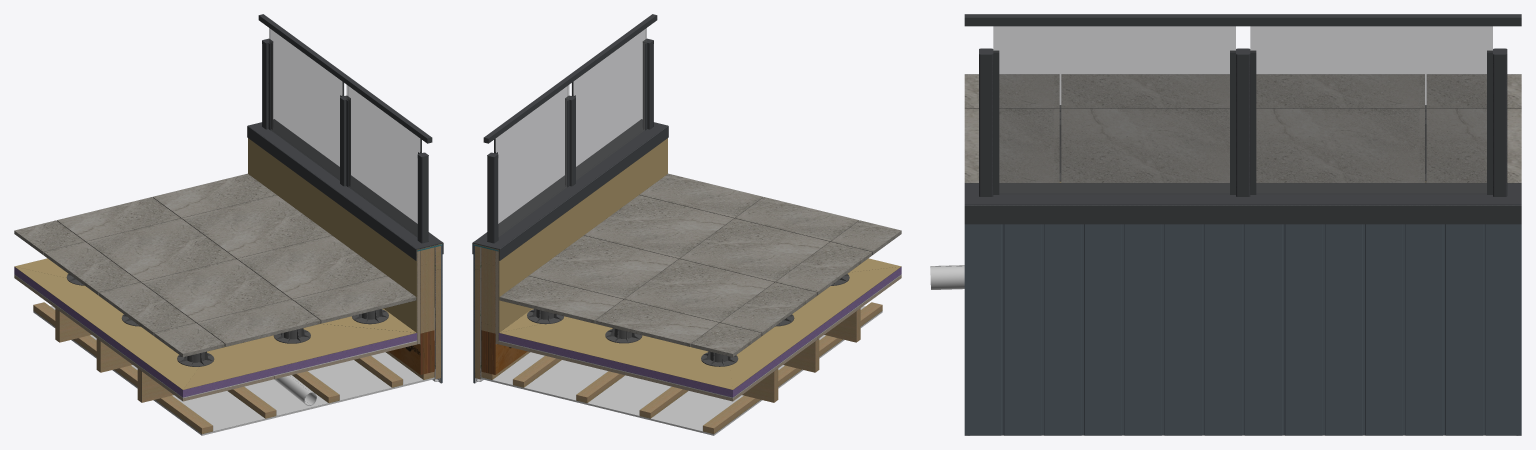
Rendered from balcony-parapet-detail.glb.
3 renders of one model, left to right at view 1: azimuth 30°, elevation 25°; view 2: azimuth 150°, elevation 25°; view 3: azimuth 270°, elevation 25°, orthographic. The views are drawn at different scales.
Parts seen in each view (by area): view 1: Balcony Tiles, Balcony Balustrade, Balcony Membrane, Soffit Lining, Ceiling Battens, Demtech Balcony Tray, Balcony Joists, Fibre Cement Sheet Flooring, Parapet Wall Framing, Floor Beam 2, Structural_Pedestals_Bison-Innovative-Products_Screwjack_B4_ (×2), Cavity Battens (+3 smaller); view 2: Balcony Tiles, Balcony Balustrade, Balcony Membrane, Soffit Lining, Ceiling Battens, Demtech Balcony Tray, Balcony Joists, Fibre Cement Sheet Flooring, Parapet Wall Framing, Floor Beam 2, Cavity Battens, Demtech Tray Adhesive (+2 smaller); view 3: Axon Cladding, Balcony Balustrade, Balcony Tiles, Balcony Drain Pipe, Balcony Balustrade__edges__.
Boxes of the visible parts, x1,y1,x2,y2 form: Balcony Tiles: [14, 173, 416, 357]; Balcony Balustrade: [247, 14, 443, 260]; Balcony Membrane: [14, 138, 442, 389]; Soffit Lining: [33, 306, 434, 435]; Ceiling Battens: [33, 302, 434, 433]; Demtech Balcony Tray: [14, 267, 417, 397]; Balcony Joists: [55, 308, 173, 402]; Fibre Cement Sheet Flooring: [14, 275, 416, 401]; Parapet Wall Framing: [420, 247, 434, 333]; Floor Beam 2: [388, 332, 427, 374]; Structural_Pedestals_Bison-Innovative-Products_Screwjack_B4_ (×2): [177, 328, 310, 366]; Cavity Battens: [435, 269, 440, 379]; Balcony Tiles: [499, 173, 901, 357]; Balcony Balustrade: [472, 14, 668, 260]; Balcony Membrane: [473, 138, 901, 389]; Soffit Lining: [481, 306, 882, 435]; Ceiling Battens: [481, 302, 882, 433]; Demtech Balcony Tray: [498, 267, 901, 397]; Balcony Joists: [742, 308, 860, 402]; Fibre Cement Sheet Flooring: [498, 275, 901, 401]; Parapet Wall Framing: [481, 247, 495, 333]; Floor Beam 2: [488, 332, 527, 374]; Cavity Battens: [475, 269, 480, 379]; Demtech Tray Adhesive: [499, 274, 901, 398]; Axon Cladding: [964, 224, 1521, 435]; Balcony Balustrade: [964, 14, 1521, 224]; Balcony Tiles: [964, 74, 1521, 182]; Balcony Drain Pipe: [930, 265, 964, 289]; Balcony Balustrade__edges__: [965, 183, 1520, 204].
Bounding box in the file's own units: 5.4 × 4.92 × 6.43.
Materials: 18 (9 with a texture image).
